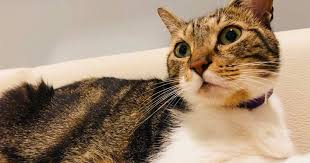cat: (146, 1, 293, 115)
